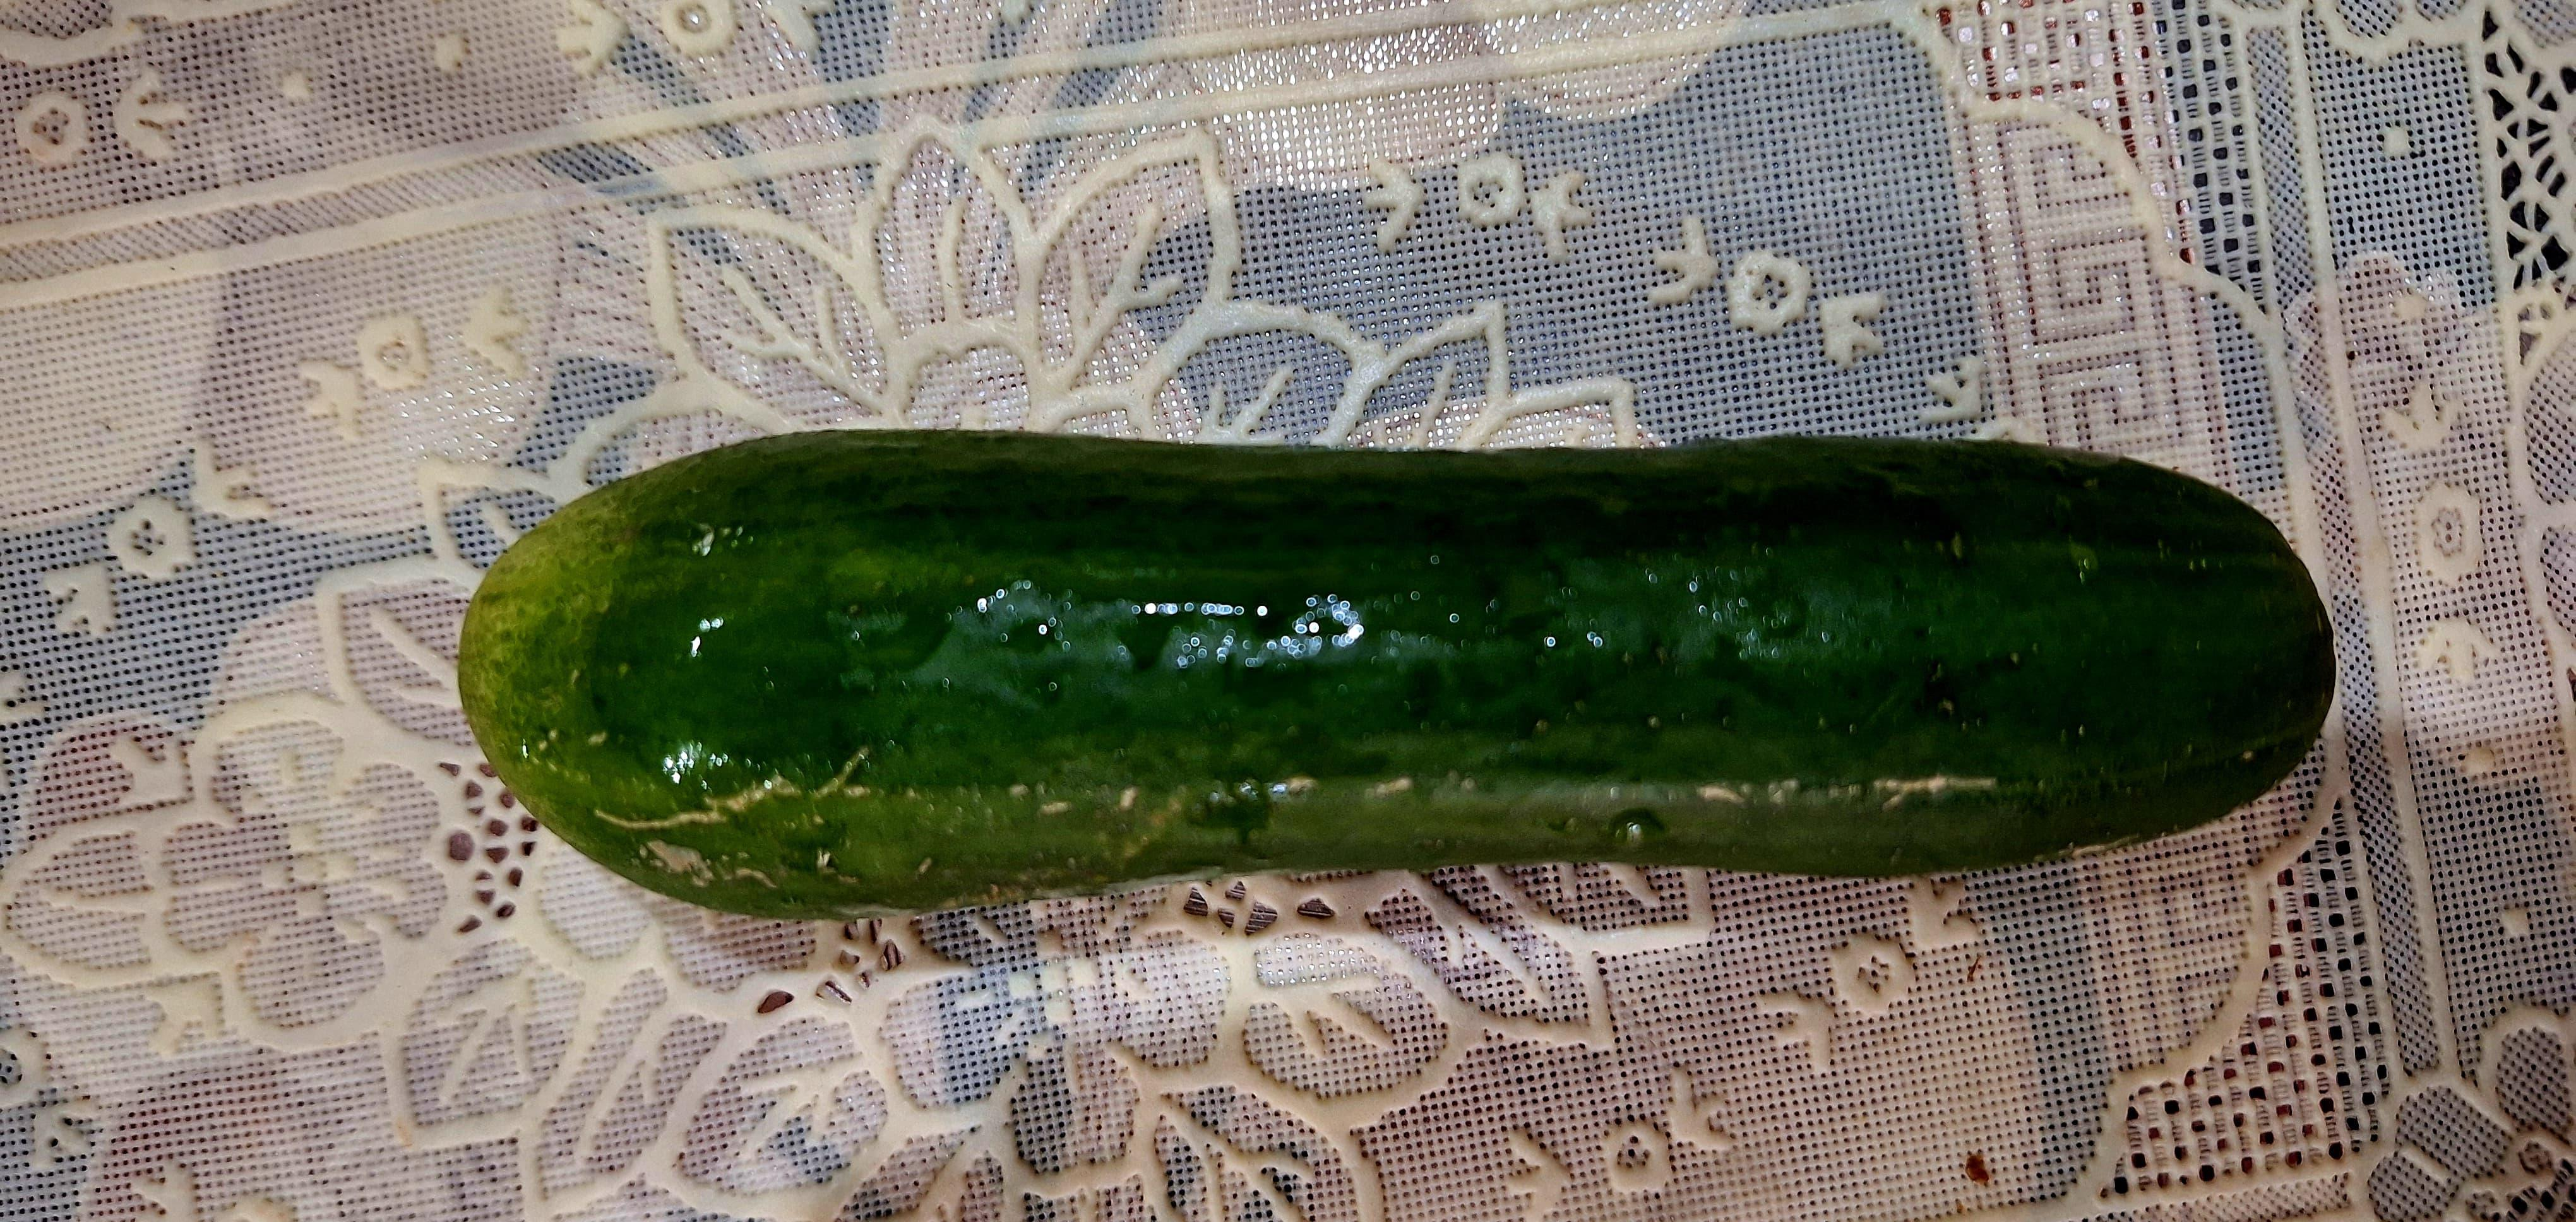non-mango: (455, 422, 2339, 921)
